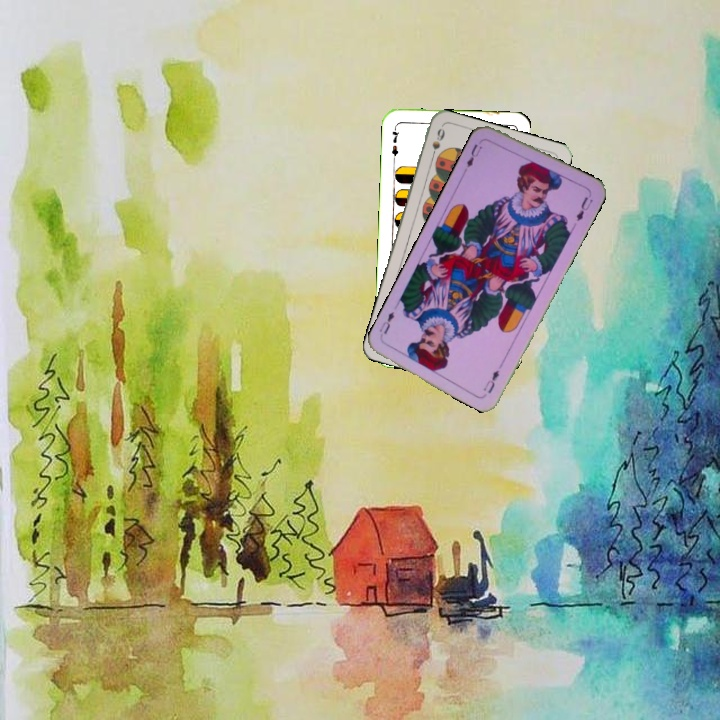E7: (388, 122, 402, 163)
EU: (480, 358, 506, 396), (460, 137, 485, 174)
S9: (427, 124, 447, 164)
